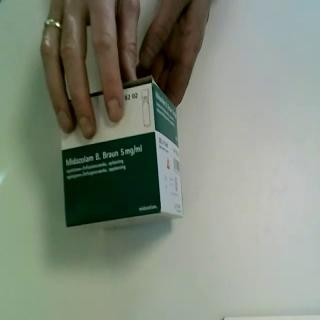midazolam5mg_ml: (60, 75, 188, 237)
